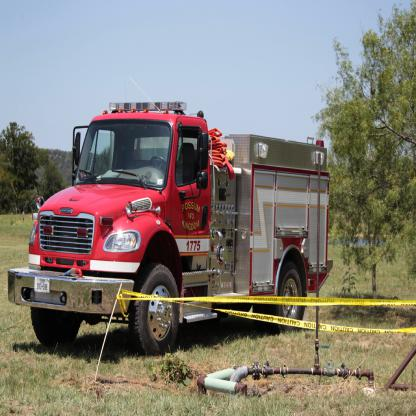Truck: (10, 85, 340, 362)
